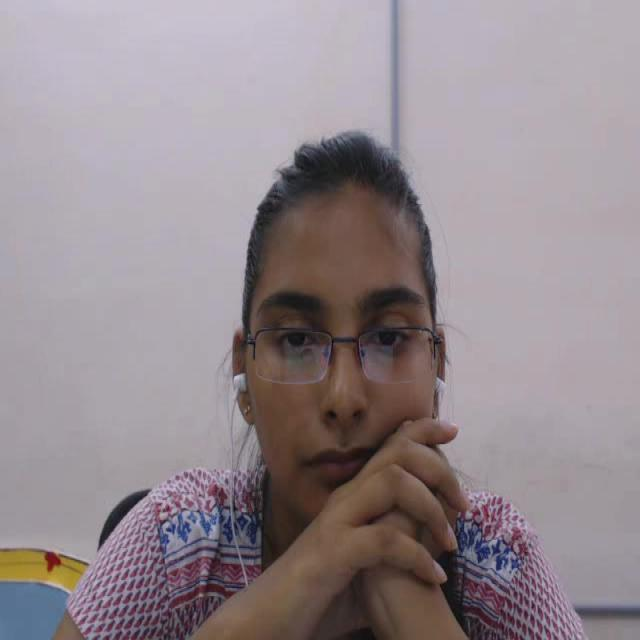Bored: (188, 113, 462, 564)
